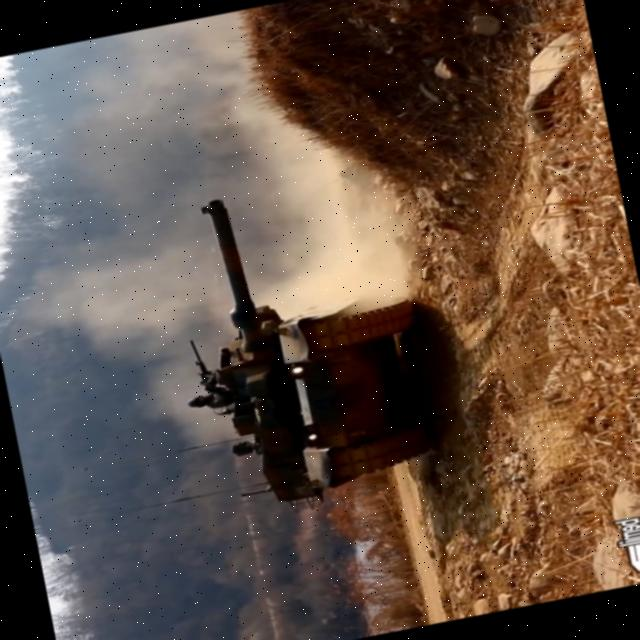korea tank: (148, 164, 446, 528)
